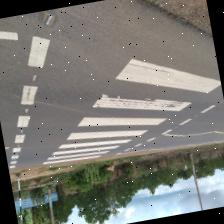crossing: (111, 44, 222, 110), (90, 78, 193, 126), (75, 102, 168, 139), (64, 119, 148, 149), (56, 131, 132, 155), (22, 32, 54, 70), (17, 82, 40, 107), (0, 23, 19, 46)
